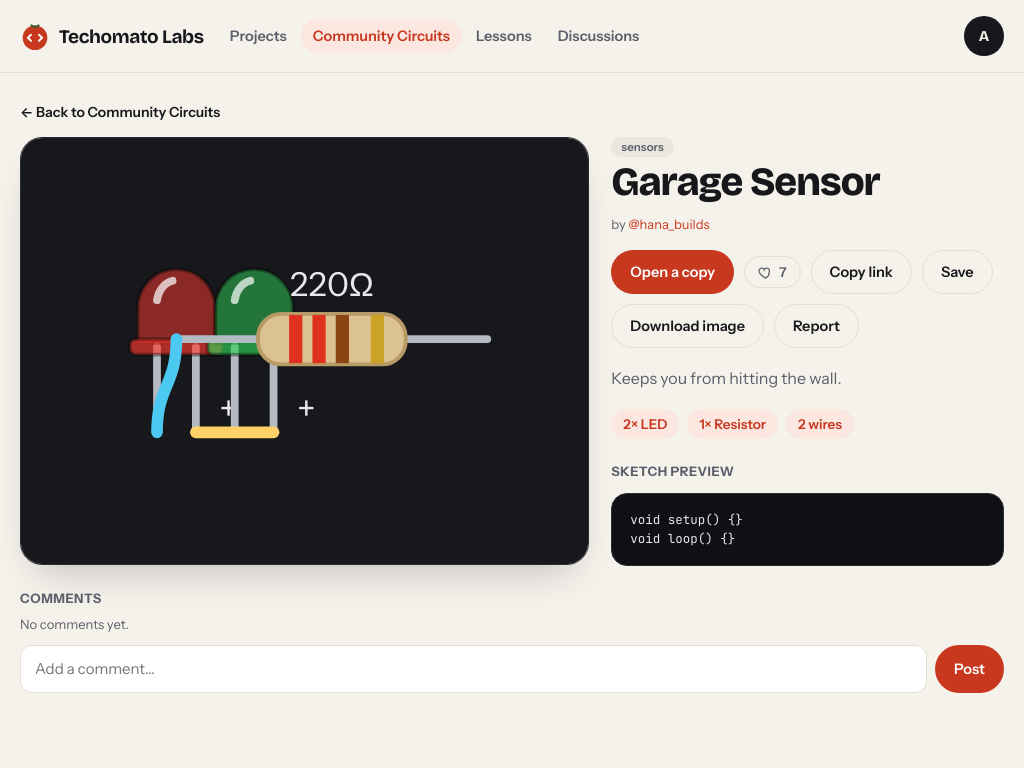
Scenario: DetailPage › likes the circuit when signed in
Expected: the heading "Garage Sensor" is shown, [611, 158, 880, 206]
What coordinates should you click on to do the following:
click the button "7"
I would click on:
 (772, 272)
Its box is [744, 256, 801, 288].
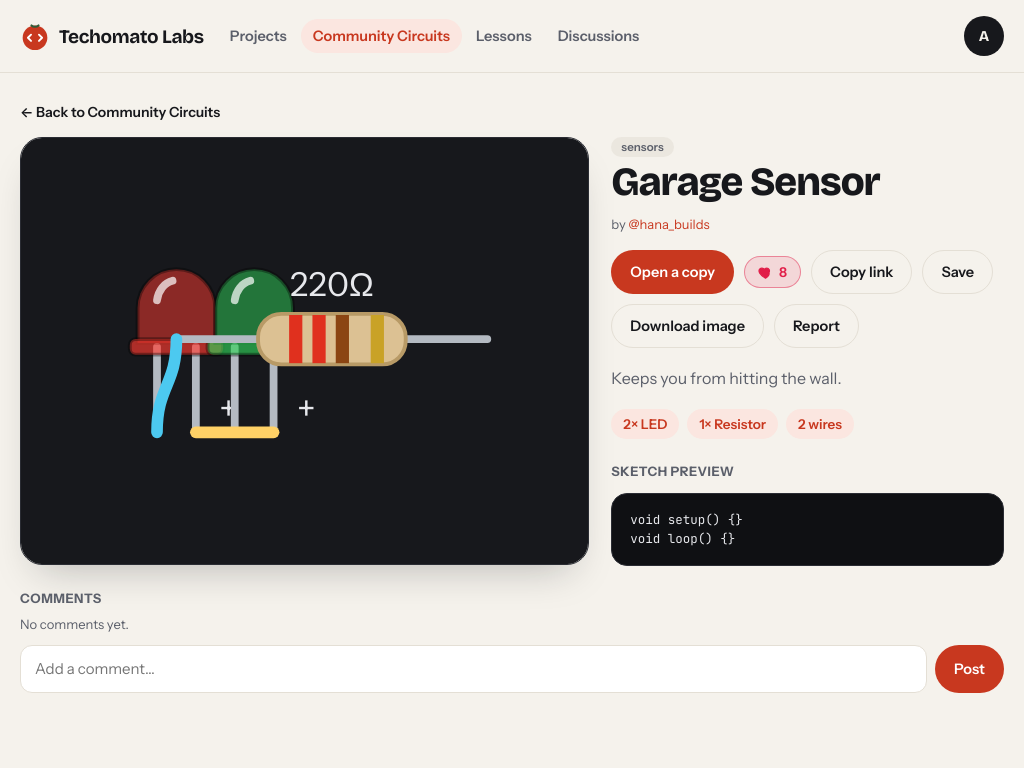
Expected: the button "8" is shown, [744, 256, 801, 288]
